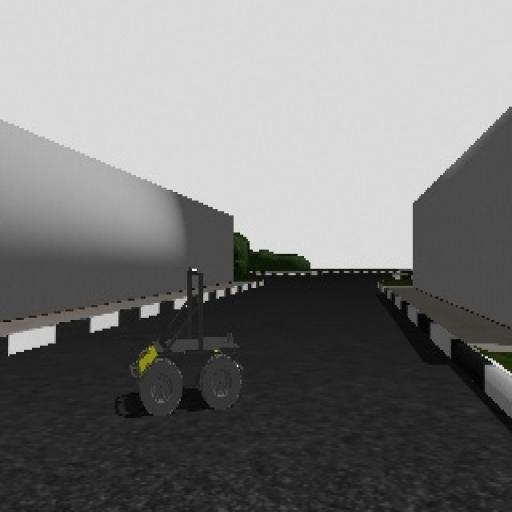huskya200: (118, 250, 258, 437)
